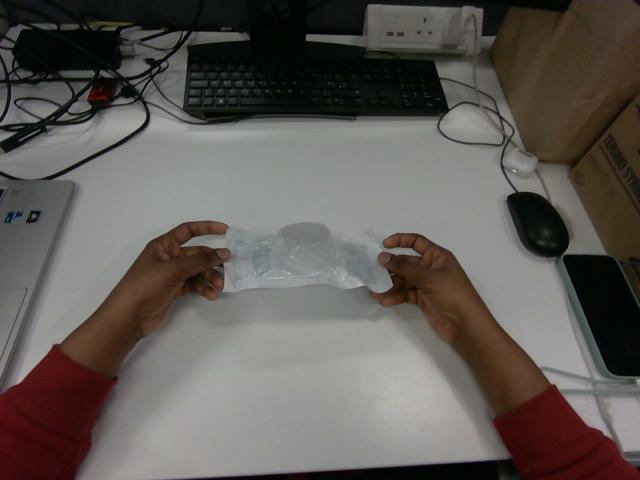gallipot: (223, 222, 391, 292)
